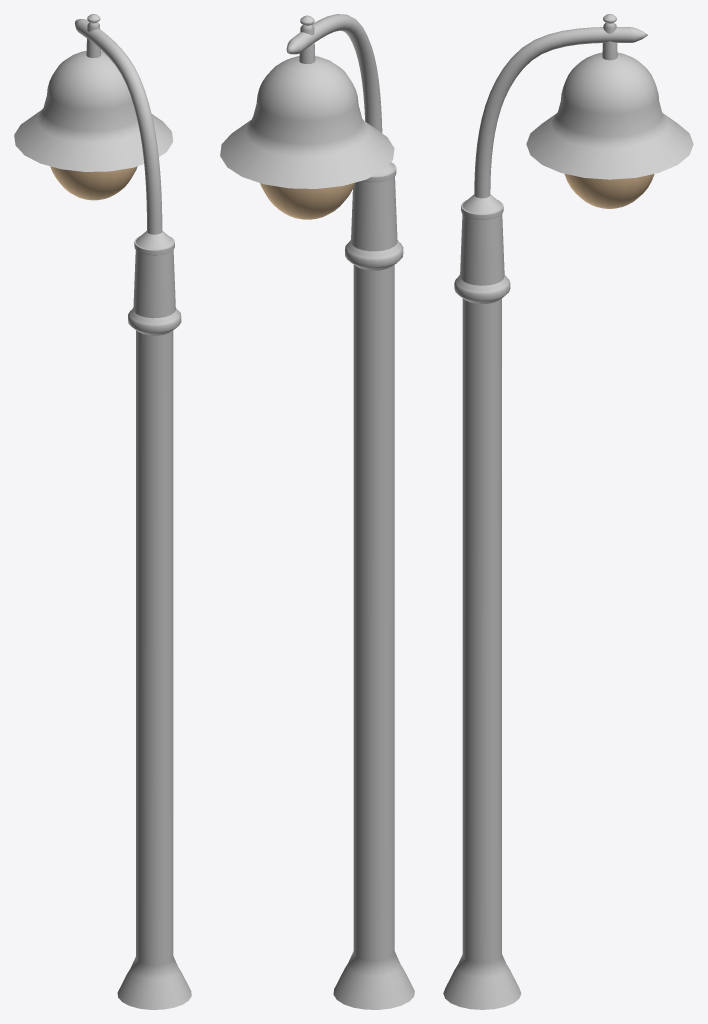
File: P_Lampadaire.fbx
The picture shows the model from 3 angles, left to right: view 1: azimuth 30°, elevation 25°; view 2: azimuth 150°, elevation 25°; view 3: azimuth 270°, elevation 25°; orthographic projection. The views are drawn at different scales.
Visible parts, largest first — view 1: P_Lampadaire; view 2: P_Lampadaire; view 3: P_Lampadaire.
Boxes of the visible parts, x1,y1,x2,y2 form: P_Lampadaire: (14, 14, 191, 1009); P_Lampadaire: (220, 14, 414, 1009); P_Lampadaire: (443, 14, 693, 1009).
Size of the model in its own units: 0.6651 by 4.29 by 0.9949.
